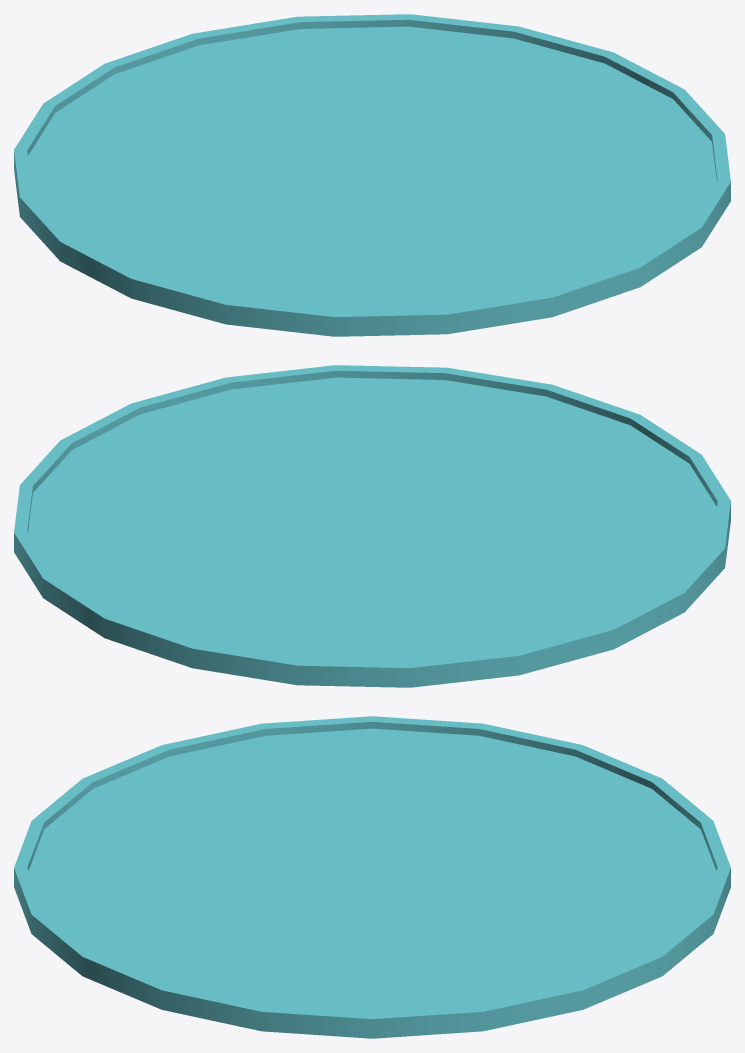
Rendered from Microondas_Plato.fbx.
3 views of the same model, one above another, from view 1: azimuth 30°, elevation 25°; view 2: azimuth 150°, elevation 25°; view 3: azimuth 270°, elevation 25° (orthographic).
Visible parts, largest first — view 1: Microondas_Plato; view 2: Microondas_Plato; view 3: Microondas_Plato.
Boxes of the visible parts, left/top/right/bottom form: Microondas_Plato: left=14, top=14, right=730, bottom=336; Microondas_Plato: left=14, top=365, right=730, bottom=687; Microondas_Plato: left=14, top=716, right=730, bottom=1038.
Size of the model in its own units: 36.43 by 2.48 by 36.43.
